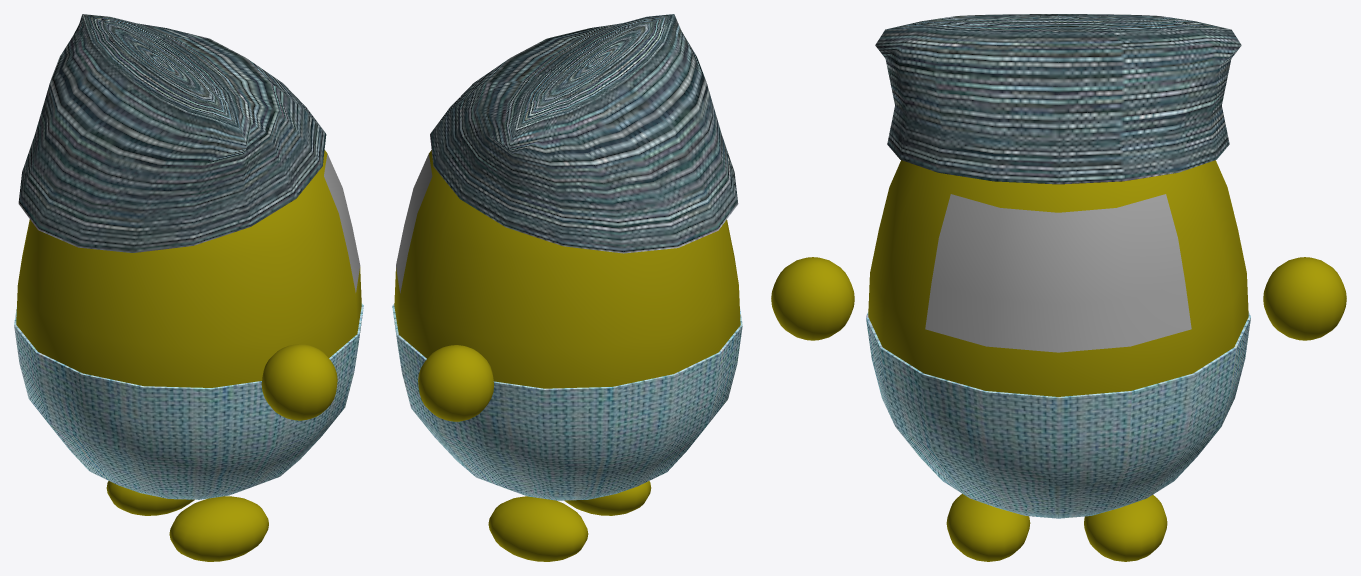
The model's file is 李时珍父亲.fbx.
3 renders of one model, left to right at view 1: azimuth 30°, elevation 25°; view 2: azimuth 150°, elevation 25°; view 3: azimuth 270°, elevation 25°, orthographic. The views are drawn at different scales.
Visible parts, largest first — view 1: polySurface4; view 2: polySurface4; view 3: polySurface4.
Boxes of the visible parts, x1,y1,x2,y2 form: polySurface4: (14, 14, 363, 561); polySurface4: (392, 14, 742, 561); polySurface4: (771, 14, 1346, 561).
Size of the model in its own units: 4.89 by 7.34 by 7.3.
Materials: 4 (2 with a texture image).
